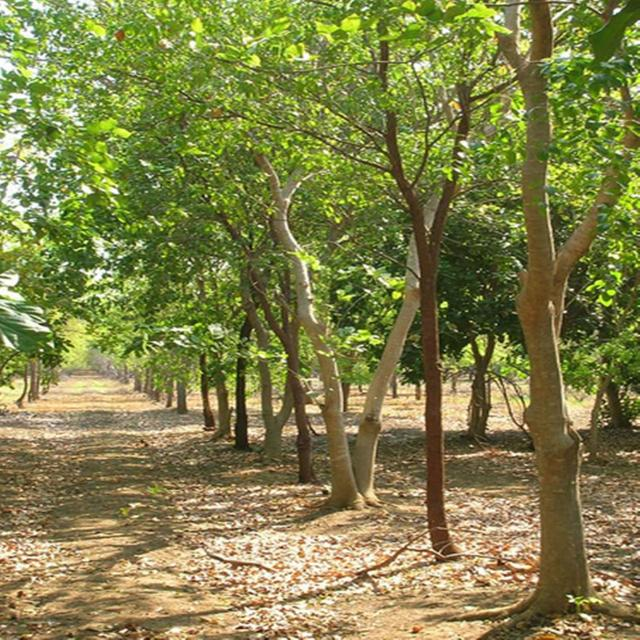Medicinal-Sandalwood: (30, 0, 640, 593)
